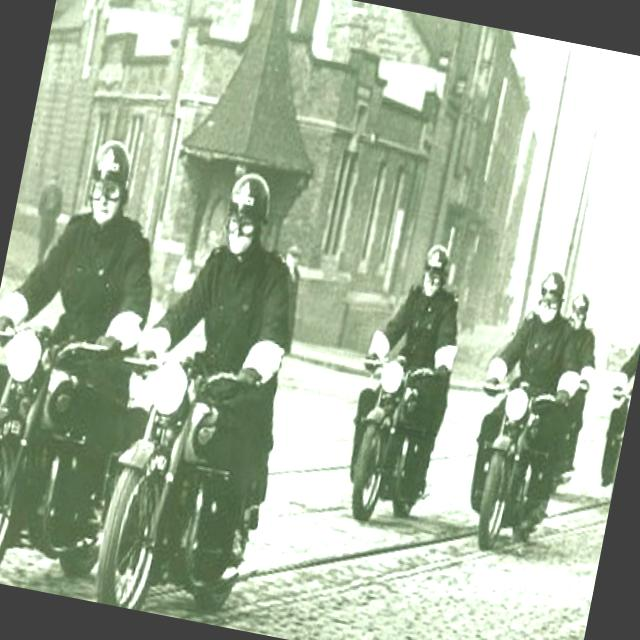Vehicle: (76, 348, 280, 628), (0, 315, 162, 605), (333, 326, 446, 532), (447, 373, 569, 562), (590, 384, 632, 509), (540, 403, 586, 503)
